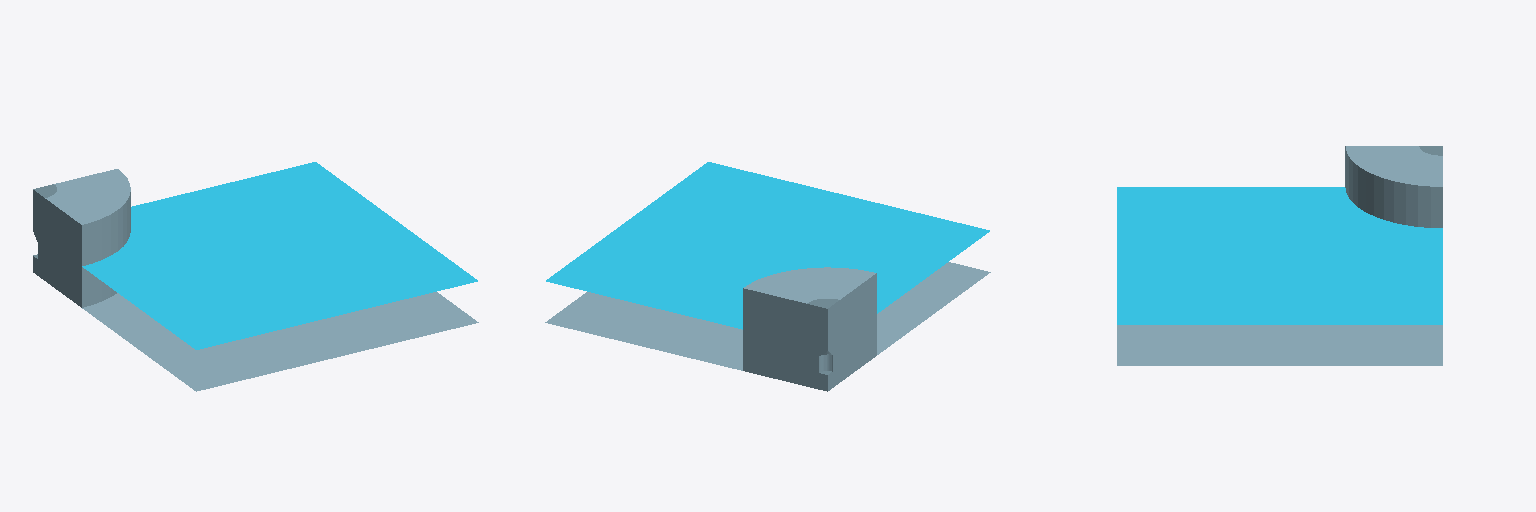
Rendered from fountainCornerInner.obj.
3 views of the same model, side by side, from view 1: azimuth 30°, elevation 25°; view 2: azimuth 150°, elevation 25°; view 3: azimuth 270°, elevation 25° (orthographic).
Visible parts, largest first — view 1: fountainCornerInner; view 2: fountainCornerInner; view 3: fountainCornerInner.
Part boxes in pixels (x1,y1,x2,y2): fountainCornerInner: (33, 162, 478, 391); fountainCornerInner: (545, 162, 990, 391); fountainCornerInner: (1117, 146, 1442, 365).
Bounding box in the file's own units: 1 × 0.28 × 1.